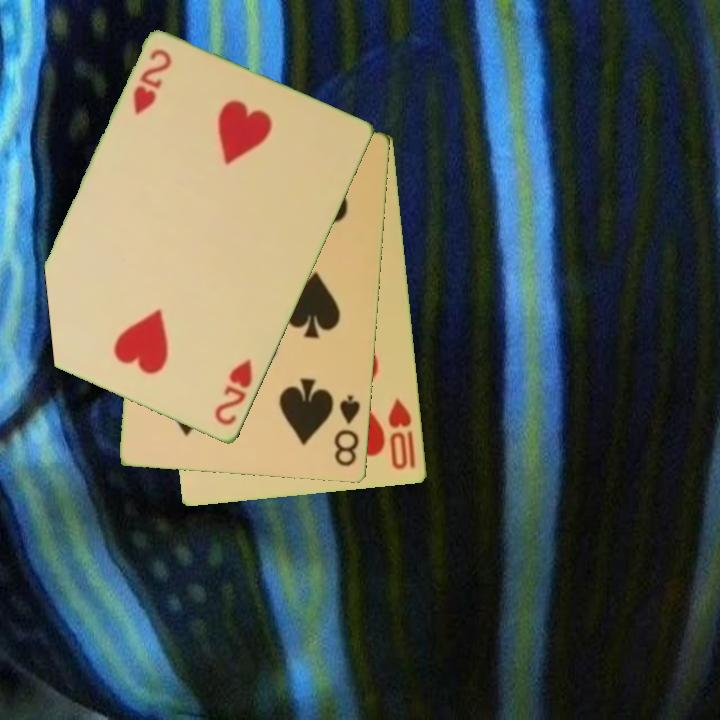10h: (385, 395, 419, 473)
2h: (129, 45, 175, 119), (211, 356, 256, 429)
8s: (331, 392, 364, 470)
